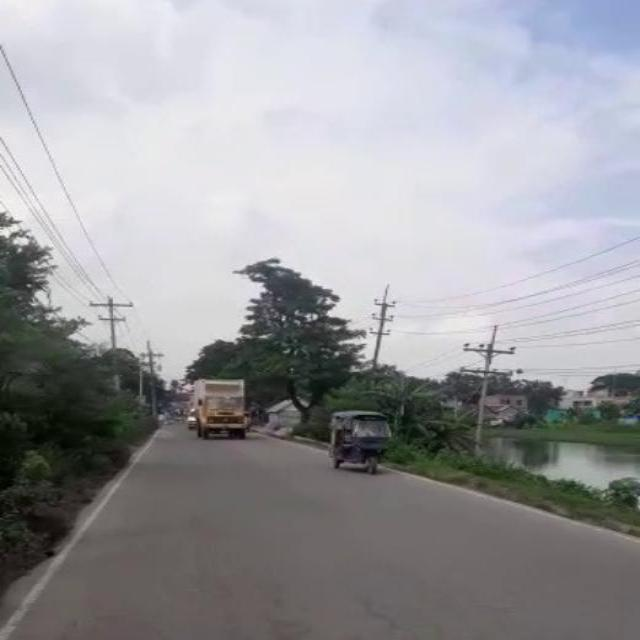auto rickshaw: (329, 410, 390, 470)
truck: (195, 374, 246, 436)
